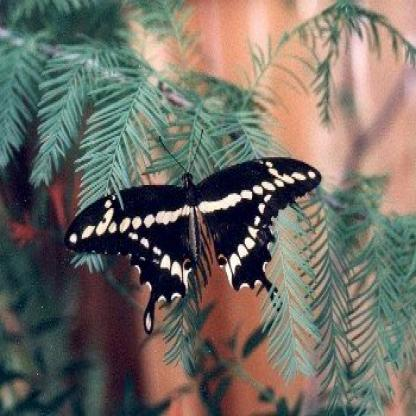Giant Swallowtail: (52, 111, 324, 333)
